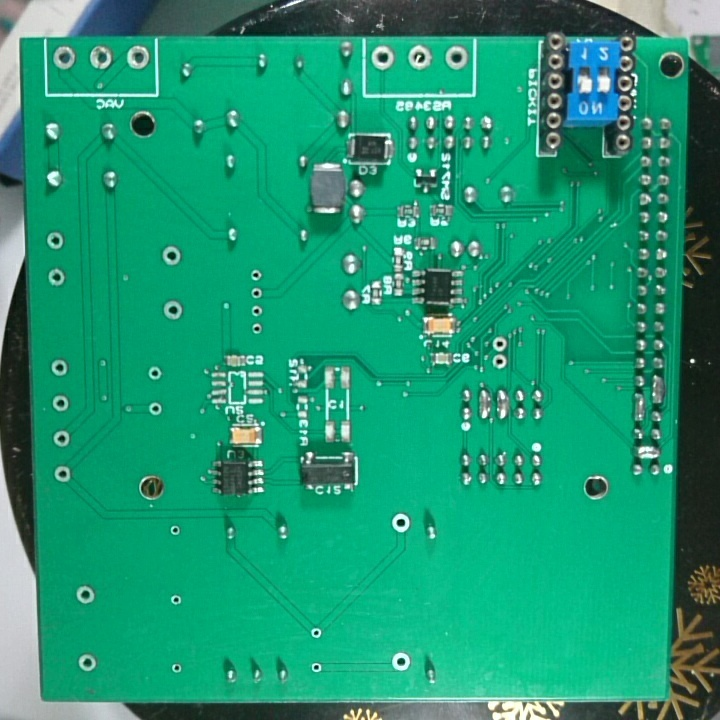F: (442, 43, 470, 74), (86, 44, 114, 73), (124, 43, 151, 73), (405, 44, 432, 73), (51, 45, 79, 72), (369, 45, 396, 73), (159, 297, 185, 324), (73, 582, 97, 608), (388, 510, 412, 535), (159, 243, 182, 268), (42, 229, 68, 251), (75, 652, 99, 675), (48, 357, 72, 380), (389, 649, 411, 674), (51, 463, 74, 486), (48, 393, 72, 415), (45, 264, 67, 288), (51, 428, 71, 450), (146, 398, 166, 420), (490, 333, 510, 354), (246, 266, 267, 283), (247, 285, 266, 303), (145, 364, 162, 384), (166, 520, 182, 541), (490, 352, 508, 370), (168, 660, 186, 678), (308, 624, 325, 643), (248, 303, 267, 320), (308, 658, 324, 678), (166, 592, 184, 609), (249, 320, 266, 337)
P: (494, 386, 511, 422), (650, 372, 667, 407), (476, 386, 492, 422), (631, 443, 660, 460), (631, 390, 645, 424)
